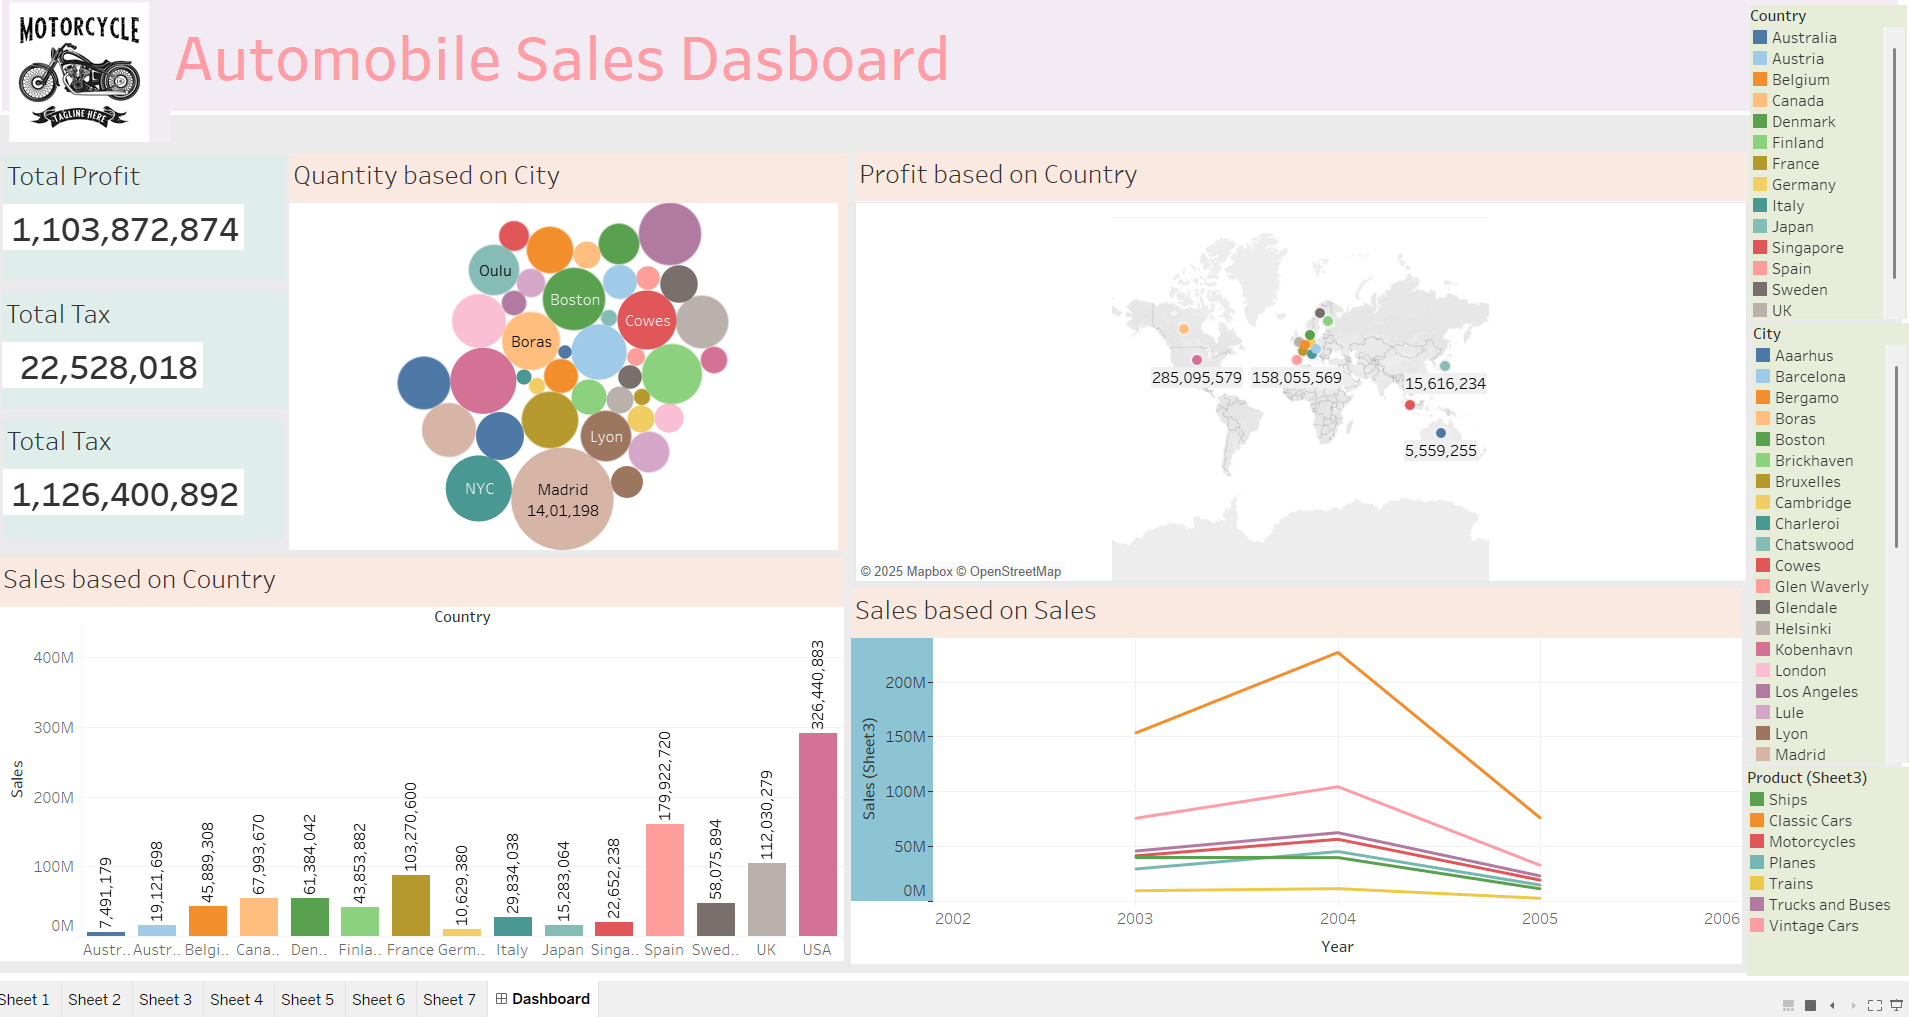

This screenshot's page, from the dashboard's own definition file:
{"tool":"tableau","page":{"name":"Dashboard","canvas":[1000,1000],"units":"permille","ordinal":0},"visuals":[{"type":"title","box":[4.8,10,990.3,148.6]},{"type":"image","param":"C:/Users/hp/OneDrive/Desktop/Programming/Data Analysis/Task - 4 Tableau/Motorcyc","box":[9.7,13.7,84.5,141.1]},{"type":"legend","title":"Sheet 2","param":"[federated.02l34t51r679kn11ammix1942ze4].[none:COUNTRY:nk]","box":[916.8,17.5,82,315.9]},{"type":"worksheet","title":"Sheet 2","mark":"Automatic","box":[450.5,164.8,464.6,433.2]},{"type":"worksheet","title":"Sheet 4","mark":"Circle","box":[155.7,166,290.9,399.5]},{"type":"worksheet","title":"Sheet 5","mark":"Automatic","box":[6.6,167.3,147.2,127.3]},{"type":"worksheet","title":"Sheet 6","mark":"Automatic","box":[6,305.9,148.5,118.6]},{"type":"legend","title":"Sheet 4","param":"[federated.02l34t51r679kn11ammix1942ze4].[none:CITY:nk]","box":[918,337.1,81.4,443.2]},{"type":"worksheet","title":"Sheet 7","mark":"Automatic","box":[6.6,434.5,146.1,122.4]},{"type":"worksheet","title":"Sheet 1","mark":"Bar","rows":["SALES"],"cols":["COUNTRY"],"box":[4.7,573,439.9,407]},{"type":"worksheet","title":"Sheet 3","mark":"Automatic","rows":["SALES (Sheet3)"],"cols":["Year"],"box":[448.4,604.2,464.1,378.3]},{"type":"legend","title":"Sheet 3","param":"[federated.02l34t51r679kn11ammix1942ze4].[none:Product (Sheet3):nk]","box":[915.1,784,84.4,211]}]}

Visuals, with their boxes on the dashboard's canvas, which has no fixed pixel size, in thousandths of its width and height (x1, y1, x2, y2). These are canvas units, not pixel positions in the 1909x1017 screenshot, which may show the page scaled, cropped or inside an application window:
title: 5, 10, 995, 159
image: 10, 14, 94, 155
"Sheet 2" legend: 917, 18, 999, 333
"Sheet 2" worksheet: 450, 165, 915, 598
"Sheet 4" worksheet (Circle marks): 156, 166, 447, 566
"Sheet 5" worksheet: 7, 167, 154, 295
"Sheet 6" worksheet: 6, 306, 154, 424
"Sheet 4" legend: 918, 337, 999, 780
"Sheet 7" worksheet: 7, 434, 153, 557
"Sheet 1" worksheet (Bar marks): 5, 573, 445, 980
"Sheet 3" worksheet: 448, 604, 912, 982
"Sheet 3" legend: 915, 784, 1000, 995
